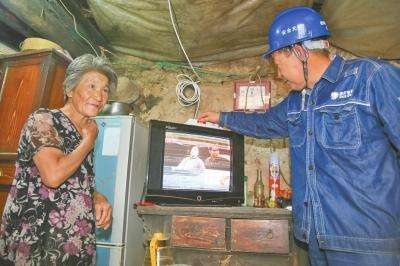blue: (264, 8, 336, 92)
none: (59, 54, 116, 118)
